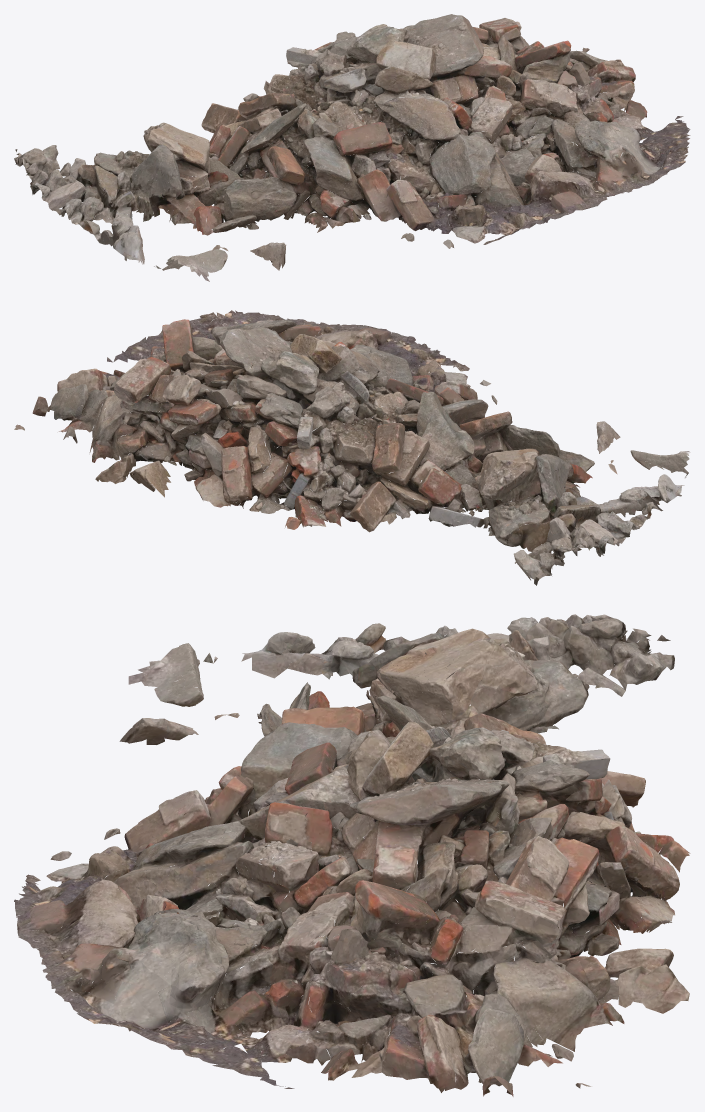
The model's file is brick-rubble-pile.glb.
3 views of the same model, one above another, from view 1: azimuth 30°, elevation 25°; view 2: azimuth 150°, elevation 25°; view 3: azimuth 270°, elevation 25° (orthographic). The views are drawn at different scales.
Parts seen in each view (by area): view 1: Model_material1_0 (×3), Model_material0_0 (×3); view 2: Model_material1_0 (×3), Model_material0_0 (×3); view 3: Model_material1_0 (×3), Model_material0_0 (×3).
Boxes of the visible parts, box(x1,y1,x2,y2) form: Model_material1_0 (×3): box(14, 18, 690, 281); Model_material0_0 (×3): box(16, 14, 690, 272); Model_material1_0 (×3): box(33, 310, 690, 585); Model_material0_0 (×3): box(14, 318, 688, 579); Model_material1_0 (×3): box(17, 614, 689, 1096); Model_material0_0 (×3): box(14, 614, 690, 1096).
Bounding box in the file's own units: 20.53 × 4.08 × 13.06.
2 materials, 2 textured.
